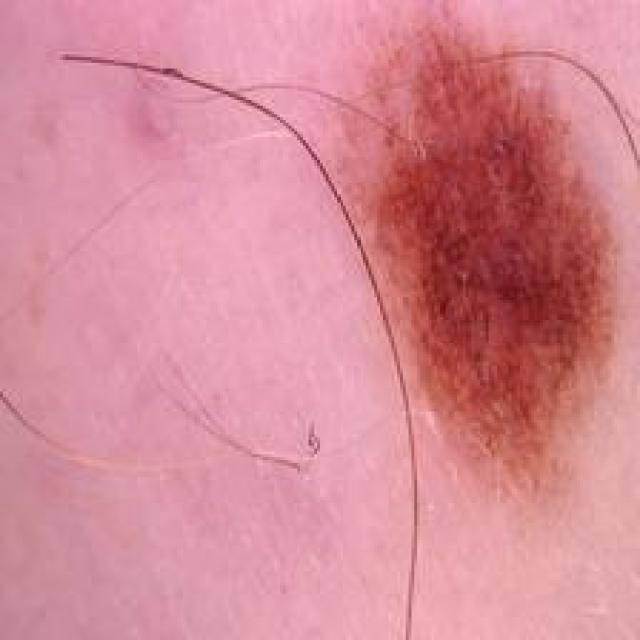Cancer: (357, 0, 640, 530)
